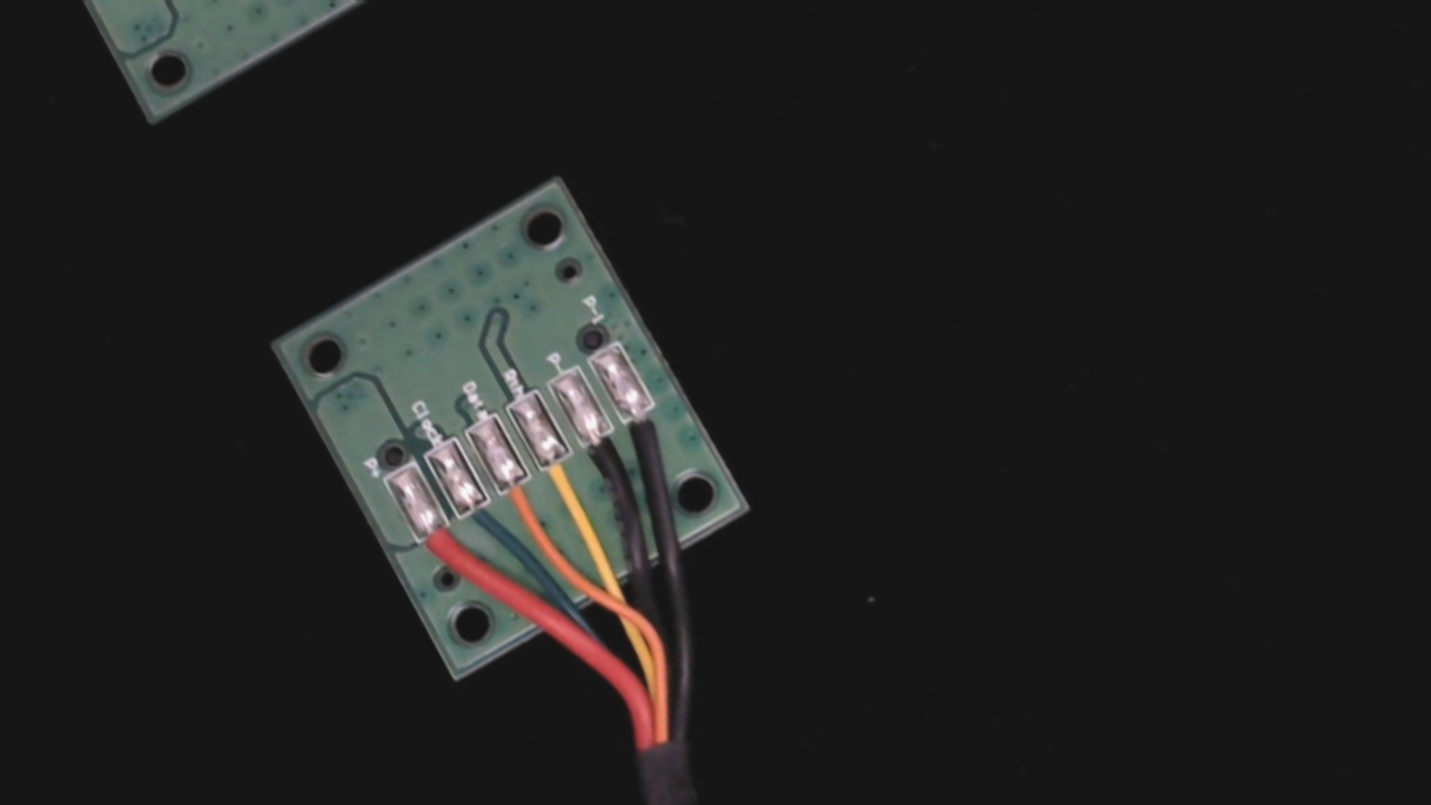Black: (566, 410, 645, 498)
Black1: (609, 386, 682, 466)
Green: (442, 482, 516, 564)
Orange: (484, 459, 557, 541)
Red: (405, 508, 485, 599)
Yellow: (525, 433, 604, 523)
